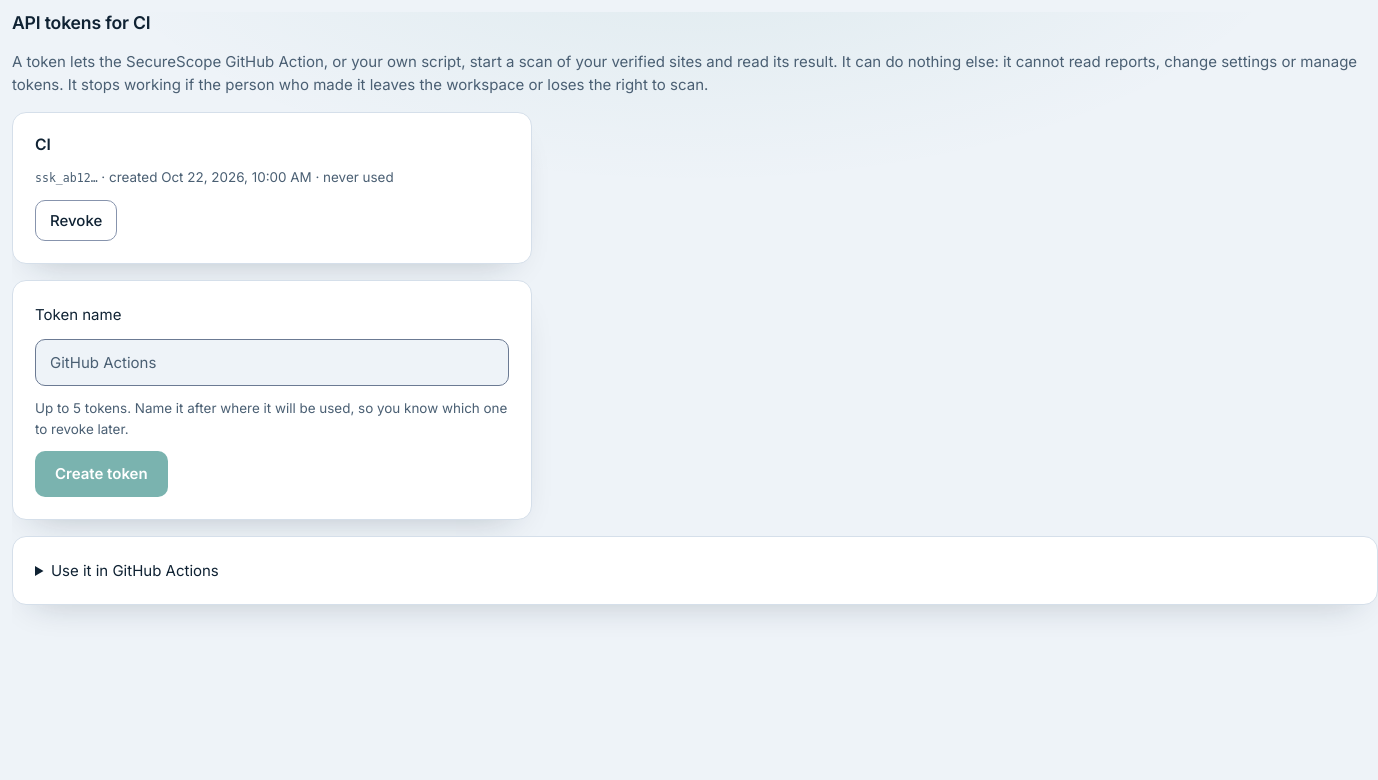
Scenario: API tokens › asks before revoking
This screenshot has width=1378, height=780.
Click the button "Revoke" at (76, 221), box [35,200,117,241]
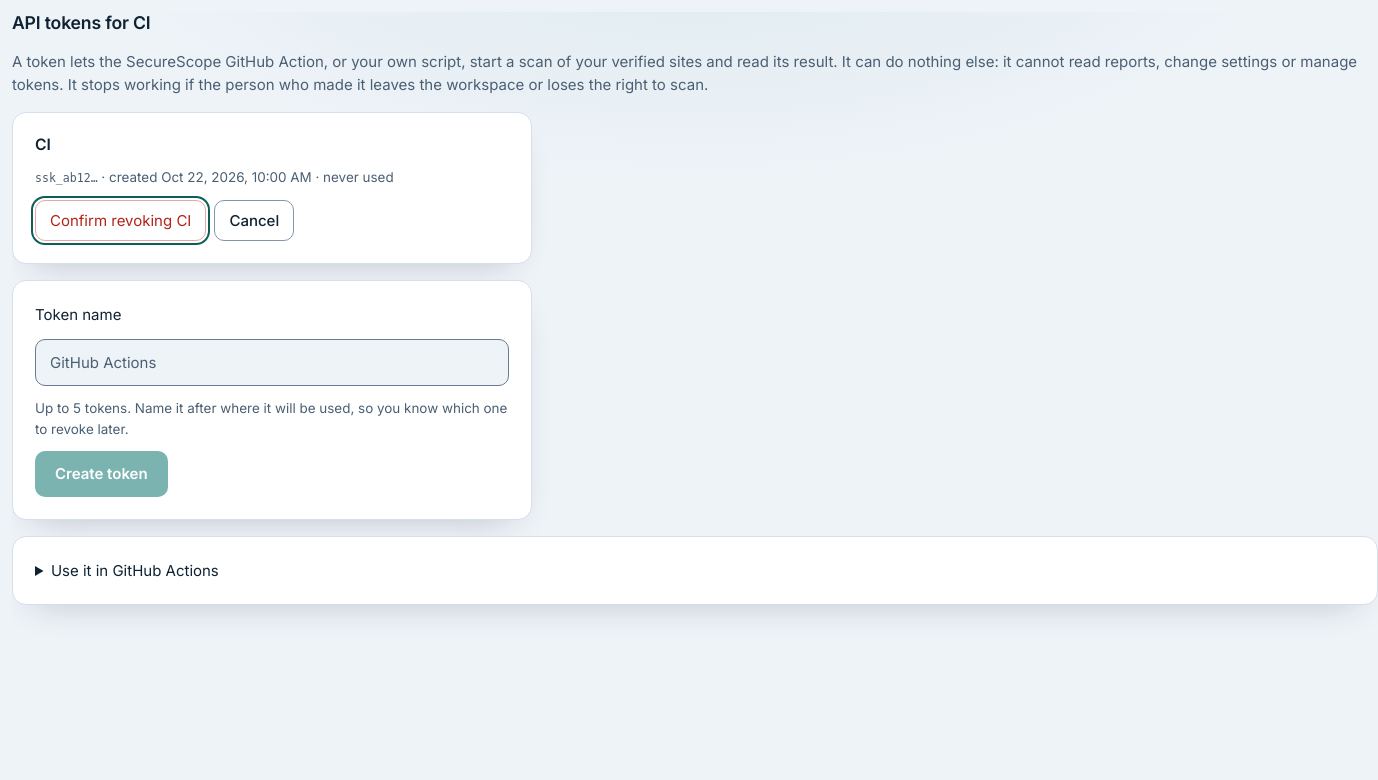
Click the button "Confirm revoking CI" at (121, 221), box [35,200,206,241]
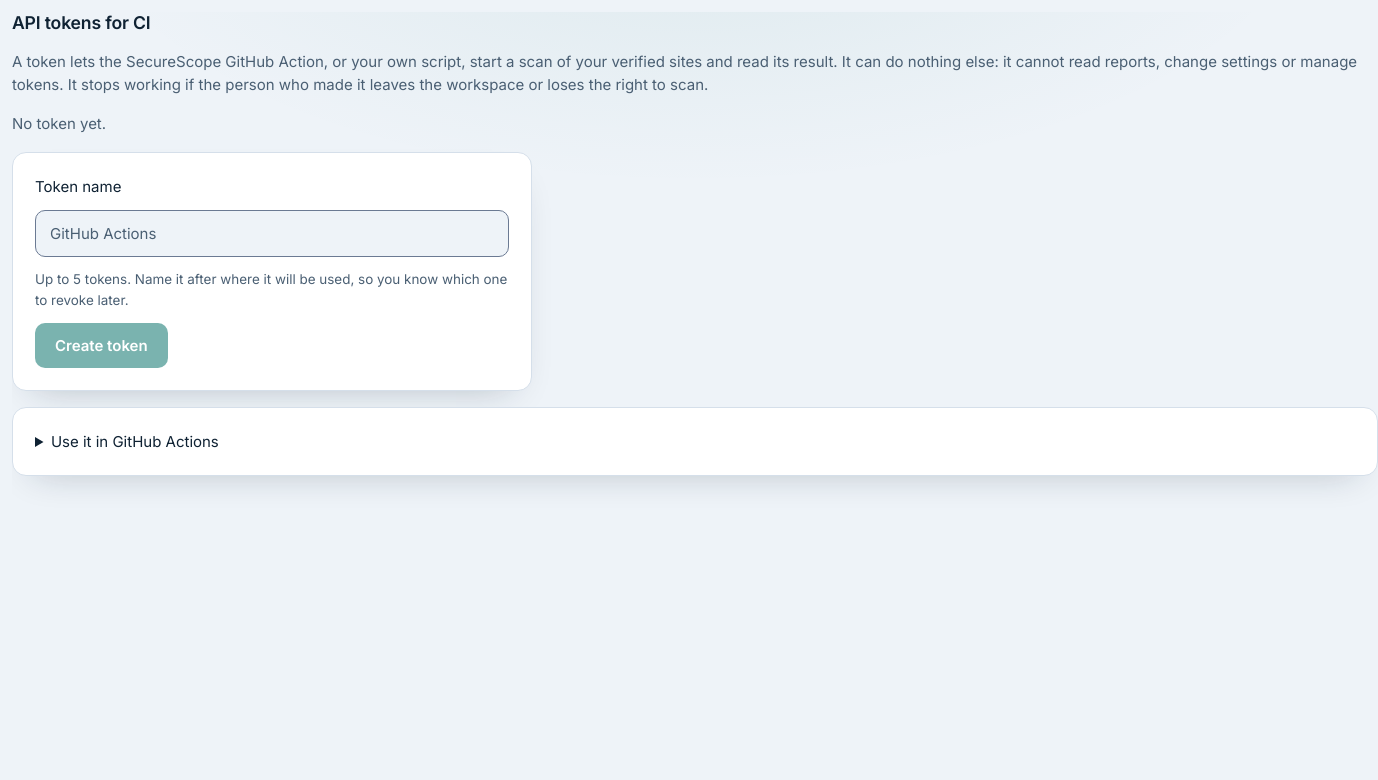
Result: the text "No token yet." is shown at [12,114,106,134]
